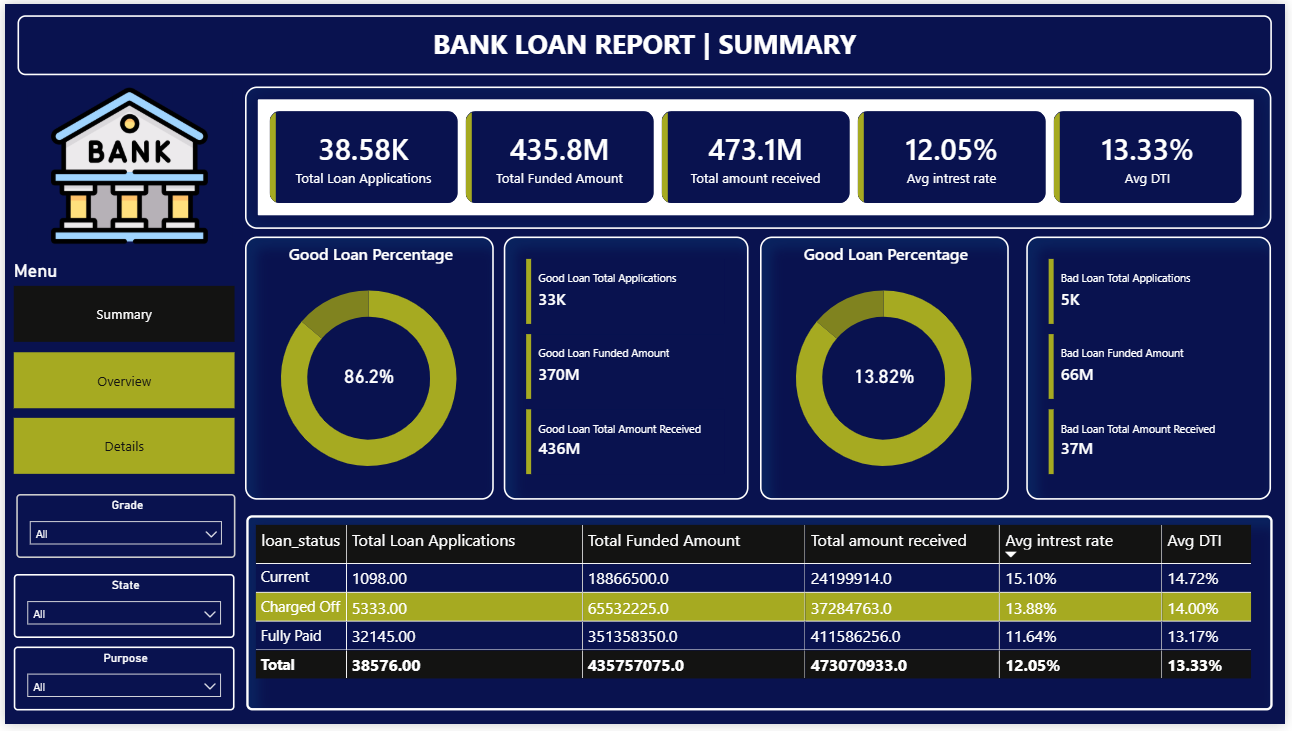

This screenshot's page, from the dashboard's own definition file:
{"tool":"powerbi","page":{"name":"Summary","canvas":[1280,720],"ordinal":0},"visuals":[{"type":"donutChart","title":"Good  Loan Percentage","fields":{"Y":["public bank_loan_data.Good Loan Total Applications","public bank_loan_data.Bad Loan Total Applications"]},"box":[240.1,232.8,248.5,263],"z":0},{"type":"cardVisual","fields":{"Data":["public bank_loan_data.Good Loan Total Applications","public bank_loan_data.Good Loan Funded Amount","public bank_loan_data.Good Loan Total Amount Received"]},"box":[498.3,232.8,244.9,263],"z":1000},{"type":"card","fields":{"Values":["public bank_loan_data.Good Loan Percentag"]},"box":[311.3,351.1,106.2,42.2],"z":2000},{"type":"card","fields":{"Values":["public bank_loan_data.Bad Loan Percentage"]},"box":[1091.8,435.5,106.2,42.2],"z":3000},{"type":"pivotTable","fields":{"Rows":["public bank_loan_data.loan_status"],"Values":["public bank_loan_data.Total Loan Applications","public bank_loan_data.Total Funded Amount","public bank_loan_data.Total amount received","public bank_loan_data.Avg intrest rate","public bank_loan_data.Avg DTI"]},"box":[241.3,511.5,1026.7,195.4],"z":4000},{"type":"donutChart","title":"Good  Loan Percentage","fields":{"Y":["public bank_loan_data.Good Loan Total Applications","public bank_loan_data.Bad Loan Total Applications"]},"box":[755.2,232.8,248.5,263],"z":5000},{"type":"card","fields":{"Values":["public bank_loan_data.Bad Loan Percentage"]},"box":[826.4,352.3,106.2,41],"z":6000},{"type":"cardVisual","fields":{"Data":["public bank_loan_data.Bad Loan Total Applications","public bank_loan_data.Bad Loan Funded Amount","public bank_loan_data.Bad Loan Total Amount Received"]},"box":[1020.6,232.8,244.9,263],"z":7000},{"type":"cardVisual","fields":{"Data":["public bank_loan_data.Total Loan Applications","public bank_loan_data.Total Funded Amount","public bank_loan_data.Total amount received","public bank_loan_data.Avg intrest rate","public bank_loan_data.Avg DTI"]},"box":[240.1,82,1026.7,142.4],"z":8000},{"type":"slicer","title":"State","fields":{"Values":["public bank_loan_data.address_state"]},"box":[8.4,569.4,220.8,63.9],"z":9000},{"type":"slicer","title":"Grade","fields":{"Values":["public bank_loan_data.grade"]},"box":[10.9,489.8,219.6,63.9],"z":10000},{"type":"slicer","title":"Purpose","fields":{"Values":["public bank_loan_data.purpose"]},"box":[8.4,643,220.8,63.9],"z":11000},{"type":"textbox","box":[12.1,10.9,1254.7,60.3],"z":12000},{"type":"pageNavigator","title":"Menu","box":[8.4,255.8,222,216],"z":13000},{"type":"image","box":[21.2,82.5,207.5,158.8],"z":14000}]}

Visuals, with their boxes in screenshot pixels (x1, y1, x2, y2), scaled from the page's 1280x720 canvas onto the 1292x731 screenshot:
"Good  Loan Percentage" donutChart: [left=242, top=236, right=493, bottom=503]
cardVisual - public bank_loan_data.Good Loan Total Applications x public bank_loan_data.Good Loan Funded Amount: [left=503, top=236, right=750, bottom=503]
card - public bank_loan_data.Good Loan Percentag: [left=314, top=356, right=421, bottom=399]
card - public bank_loan_data.Bad Loan Percentage: [left=1102, top=442, right=1209, bottom=485]
pivotTable - public bank_loan_data.loan_status x public bank_loan_data.Total Loan Applications: [left=244, top=519, right=1280, bottom=718]
"Good  Loan Percentage" donutChart: [left=762, top=236, right=1013, bottom=503]
card - public bank_loan_data.Bad Loan Percentage: [left=834, top=358, right=941, bottom=399]
cardVisual - public bank_loan_data.Bad Loan Total Applications x public bank_loan_data.Bad Loan Funded Amount: [left=1030, top=236, right=1277, bottom=503]
cardVisual - public bank_loan_data.Total Loan Applications x public bank_loan_data.Total Funded Amount: [left=242, top=83, right=1279, bottom=228]
"State" slicer: [left=8, top=578, right=231, bottom=643]
"Grade" slicer: [left=11, top=497, right=233, bottom=562]
"Purpose" slicer: [left=8, top=653, right=231, bottom=718]
textbox: [left=12, top=11, right=1279, bottom=72]
"Menu" pageNavigator: [left=8, top=260, right=233, bottom=479]
image: [left=21, top=84, right=231, bottom=245]
